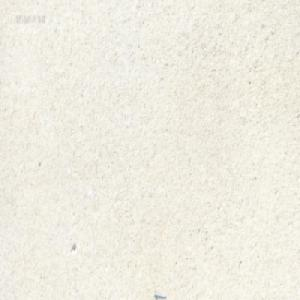Nail: (152, 289, 165, 297)
